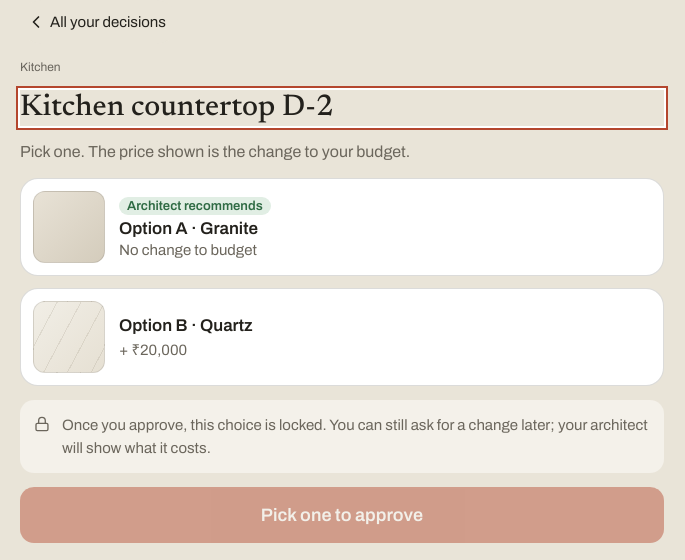
Scenario: U2b — one decision on its own screen › opens the decision asked for; nothing is chosen for the client until they pick
This screenshot has width=685, height=560.
expect the element with test id "decision-focus" shows "Pick one. The price shown is the change to your budget.": met, box [20,143,410,160]
expect the element with test id "decision-focus" shows "Architect recommends": met, box [20,178,664,276]
Click the radio button with test id "decision-option-D-2-B". click: x=69, y=337
box: [20,288,664,386]
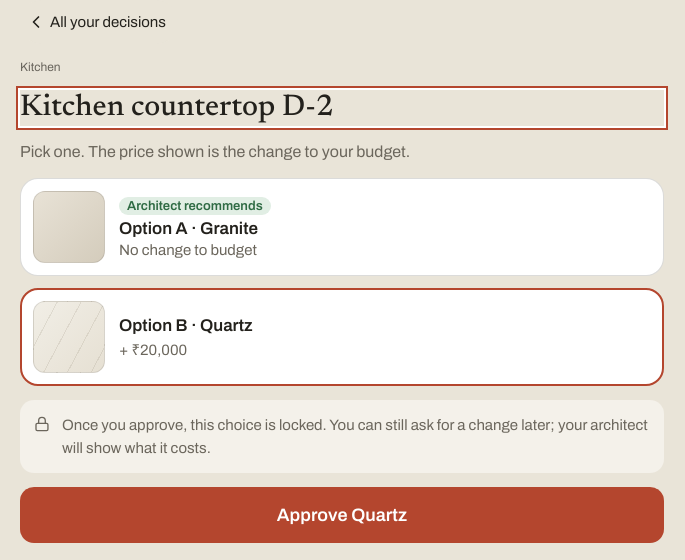
expect the radio button with test id "decision-option-D-2-A" shows "No change to budget": met, box [20,178,664,276]
expect the button with test id "decision-focus-approve" reads "Approve Quartz": met, box [20,487,664,543]
